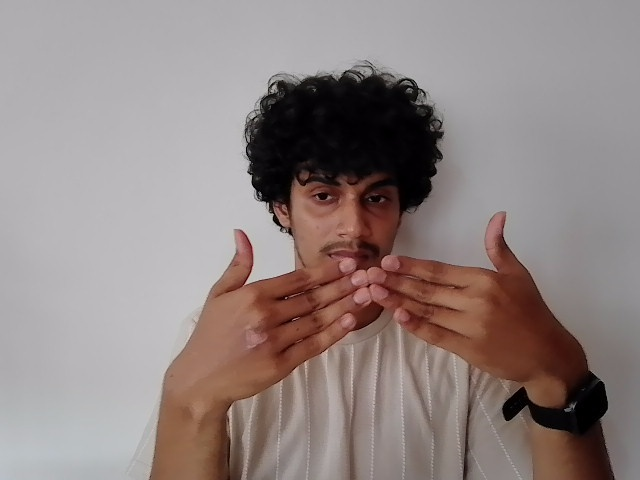family: (168, 206, 584, 388)
